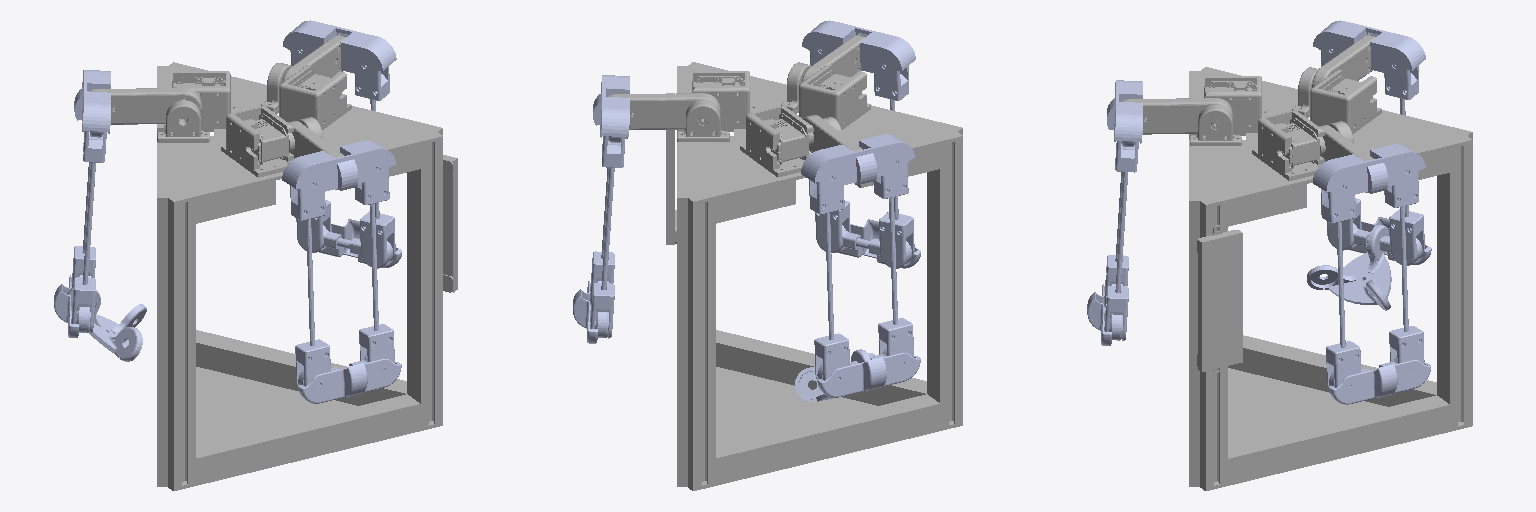
--- Facts derived from the render (not from the file) ---
Views: 3 orthographic renders of the robot side by side, from view 1: azimuth 30°, elevation 25°; view 2: azimuth 150°, elevation 25°; view 3: azimuth 270°, elevation 25°.
Model delta_arm_5_9 with 20 links and 19 joints (3 revolute, 16 fixed), rooted at base_link, posed all joints at 0 but 3 set to mid-range because 0 is outside their limits (A_upper_joint = 0.5887, B_upper_joint = 0.5887, C_upper_joint = 0.5887).
Visible links, largest first — view 1: base_link, A_lower_Link, A_L_C_Link, B_lower_Link, A_Link, B_Link, C_Link, B_L_C_Link, C_lower_Link, C_upper_Link, C_L_C_Link, bottom_Link (+5 smaller); view 2: base_link, C_lower_Link, C_L_C_Link, A_lower_Link, B_Link, A_L_C_Link, C_Link, A_Link, B_lower_Link, B_L_C_Link, B_upper_Link, A_upper_Link (+5 smaller); view 3: base_link, B_lower_Link, B_L_C_Link, C_lower_Link, B_Link, A_Link, C_Link, bottom_Link, C_L_C_Link, A_lower_Link, A_L_C_Link, A_upper_Link (+5 smaller).
Link boxes in pixels (x1,y1,x2,y2): base_link: [157, 62, 457, 490]; A_lower_Link: [282, 140, 395, 220]; A_L_C_Link: [295, 324, 401, 403]; B_lower_Link: [283, 20, 396, 100]; A_Link: [221, 106, 322, 177]; B_Link: [261, 63, 351, 129]; C_Link: [157, 71, 238, 142]; B_L_C_Link: [296, 200, 401, 268]; C_lower_Link: [74, 70, 110, 162]; C_upper_Link: [89, 88, 201, 124]; C_L_C_Link: [54, 246, 95, 337]; bottom_Link: [67, 287, 146, 361]; base_link: [666, 62, 962, 490]; C_lower_Link: [801, 134, 914, 214]; C_L_C_Link: [814, 318, 920, 397]; A_lower_Link: [802, 20, 915, 100]; B_Link: [677, 71, 758, 141]; A_L_C_Link: [815, 201, 920, 268]; C_Link: [740, 106, 841, 177]; A_Link: [781, 62, 870, 129]; B_lower_Link: [593, 75, 629, 167]; B_L_C_Link: [573, 251, 614, 343]; B_upper_Link: [606, 93, 720, 129]; A_upper_Link: [802, 35, 865, 81]; base_link: [1189, 67, 1472, 490]; B_lower_Link: [1313, 144, 1425, 223]; B_L_C_Link: [1326, 326, 1430, 404]; C_lower_Link: [1313, 20, 1425, 99]; B_Link: [1252, 110, 1353, 180]; A_Link: [1190, 76, 1269, 145]; C_Link: [1292, 67, 1381, 133]; bottom_Link: [1307, 224, 1391, 310]; C_L_C_Link: [1327, 198, 1431, 265]; A_lower_Link: [1107, 80, 1142, 172]; A_L_C_Link: [1087, 255, 1128, 345]; A_upper_Link: [1120, 98, 1232, 134].
Bounding box of the posed robot: 0.4375 × 0.4438 × 0.4203 m (x, y, z).
Meshes: 20 distinct files referenced, 20 mesh visuals loaded (20 binary STL).

robot.urdf — delta_arm_5_9:
<?xml version="1.0" encoding="utf-8"?>
<!-- This URDF was automatically created by SolidWorks to URDF Exporter! Originally created by Stephen Brawner ([email redacted]) 
     Commit Version: 1.5.1-0-g916b5db  Build Version: 1.5.7152.31018
     For more information, please see http://wiki.ros.org/sw_urdf_exporter -->
<robot
  name="delta_arm_5_9">
  <link
    name="base_link">
    <inertial>
      <origin
        xyz="0.00554893973511902 -0.00237073356367263 -0.193108630757846"
        rpy="0 0 0" />
      <mass
        value="3.15408218120688" />
      <inertia
        ixx="0.0190867271306195"
        ixy="9.49326999653824E-06"
        ixz="1.99135207647016E-19"
        iyy="0.0190757652466434"
        iyz="2.70805743697891E-18"
        izz="0.0143902861416029" />
    </inertial>
    <visual>
      <origin
        xyz="0 0 0"
        rpy="0 0 0" />
      <geometry>
        <mesh
          filename="package://delta_arm_5_9/meshes/base_link.STL" />
      </geometry>
      <material
        name="">
        <color
          rgba="0.752941176470588 0.752941176470588 0.752941176470588 1" />
      </material>
    </visual>
    <collision>
      <origin
        xyz="0 0 0"
        rpy="0 0 0" />
      <geometry>
        <mesh
          filename="package://delta_arm_5_9/meshes/base_link.STL" />
      </geometry>
    </collision>
  </link>
  <link
    name="A_Link">
    <inertial>
      <origin
        xyz="-0.0379048699759324 -0.00517857761961886 -0.00557187014435287"
        rpy="0 0 0" />
      <mass
        value="0.148279001708708" />
      <inertia
        ixx="7.54696348081895E-05"
        ixy="-9.72663516624767E-07"
        ixz="6.33543481781608E-07"
        iyy="5.65460220237497E-05"
        iyz="-3.93825719110163E-06"
        izz="8.26078524097678E-05" />
    </inertial>
    <visual>
      <origin
        xyz="0 0 0"
        rpy="0 0 0" />
      <geometry>
        <mesh
          filename="package://delta_arm_5_9/meshes/A_Link.STL" />
      </geometry>
      <material
        name="">
        <color
          rgba="0.752941176470588 0.752941176470588 0.752941176470588 1" />
      </material>
    </visual>
    <collision>
      <origin
        xyz="0 0 0"
        rpy="0 0 0" />
      <geometry>
        <mesh
          filename="package://delta_arm_5_9/meshes/A_Link.STL" />
      </geometry>
    </collision>
  </link>
  <joint
    name="A_joint"
    type="fixed">
    <origin
      xyz="0.0114000499999898 -0.0629227659318234 0.0274485649384041"
      rpy="0 0 0" />
    <parent
      link="base_link" />
    <child
      link="A_Link" />
    <axis
      xyz="0 0 0" />
  </joint>
  <link
    name="A_upper_Link">
    <inertial>
      <origin
        xyz="-0.0116561316606174 -0.0378219209354024 -0.0261820764249399"
        rpy="0 0 0" />
      <mass
        value="0.0834651127414681" />
      <inertia
        ixx="0.000109196265332253"
        ixy="4.02905885378998E-07"
        ixz="2.78909619240212E-07"
        iyy="3.94683583541158E-05"
        iyz="-4.16223927023038E-05"
        izz="7.07820517033241E-05" />
    </inertial>
    <visual>
      <origin
        xyz="0 0 0"
        rpy="0 0 0" />
      <geometry>
        <mesh
          filename="package://delta_arm_5_9/meshes/A_upper_Link.STL" />
      </geometry>
      <material
        name="">
        <color
          rgba="0.752941176470588 0.752941176470588 0.752941176470588 1" />
      </material>
    </visual>
    <collision>
      <origin
        xyz="0 0 0"
        rpy="0 0 0" />
      <geometry>
        <mesh
          filename="package://delta_arm_5_9/meshes/A_upper_Link.STL" />
      </geometry>
    </collision>
  </link>
  <joint
    name="A_upper_joint"
    type="revolute">
    <origin
      xyz="0 -0.021838122348941 -0.0017491424388583"
      rpy="0 0 0" />
    <parent
      link="A_Link" />
    <child
      link="A_upper_Link" />
    <axis
      xyz="-1 0 0" />
    <limit
      lower="0.3925"
      upper="0.785"
      effort="0"
      velocity="0" />
  </joint>
  <link
    name="A_lower_Link">
    <inertial>
      <origin
        xyz="-0.00799295057134536 0.00149434619309585 -0.00449854405208859"
        rpy="0 0 0" />
      <mass
        value="0.125950945666948" />
      <inertia
        ixx="2.60047233826041E-05"
        ixy="-1.10443542971112E-06"
        ixz="-1.39950787832508E-06"
        iyy="4.05948423209499E-05"
        iyz="5.37512520342376E-06"
        izz="3.80360818964886E-05" />
    </inertial>
    <visual>
      <origin
        xyz="0 0 0"
        rpy="0 0 0" />
      <geometry>
        <mesh
          filename="package://delta_arm_5_9/meshes/A_lower_Link.STL" />
      </geometry>
      <material
        name="">
        <color
          rgba="0.792156862745098 0.819607843137255 0.933333333333333 1" />
      </material>
    </visual>
    <collision>
      <origin
        xyz="0 0 0"
        rpy="0 0 0" />
      <geometry>
        <mesh
          filename="package://delta_arm_5_9/meshes/A_lower_Link.STL" />
      </geometry>
    </collision>
  </link>
  <joint
    name="A_lower_joint"
    type="fixed">
    <origin
      xyz="-0.00340004999999477 -0.0822216038863688 -0.0569175531304405"
      rpy="0 0 0" />
    <parent
      link="A_upper_Link" />
    <child
      link="A_lower_Link" />
    <axis
      xyz="0 0 0" />
  </joint>
  <link
    name="A_L_A_Link">
    <inertial>
      <origin
        xyz="-1.11022302462516E-16 0.045965569408597 -0.0785376752201571"
        rpy="0 0 0" />
      <mass
        value="0.00512917360576094" />
      <inertia
        ixx="1.40782919240295E-05"
        ixy="3.87455725113631E-21"
        ixz="-6.62379062297449E-21"
        iyy="1.04922009770858E-05"
        iyz="6.12726546684082E-06"
        izz="3.60912573259832E-06" />
    </inertial>
    <visual>
      <origin
        xyz="0 0 0"
        rpy="0 0 0" />
      <geometry>
        <mesh
          filename="package://delta_arm_5_9/meshes/A_L_A_Link.STL" />
      </geometry>
      <material
        name="">
        <color
          rgba="0.792156862745098 0.819607843137255 0.933333333333333 1" />
      </material>
    </visual>
    <collision>
      <origin
        xyz="0 0 0"
        rpy="0 0 0" />
      <geometry>
        <mesh
          filename="package://delta_arm_5_9/meshes/A_L_A_Link.STL" />
      </geometry>
    </collision>
  </link>
  <joint
    name="A_L_A_joint"
    type="fixed">
    <origin
      xyz="-0.0499999999999999 0.0157321910270431 -0.0278702021070493"
      rpy="0 0 0" />
    <parent
      link="A_lower_Link" />
    <child
      link="A_L_A_Link" />
    <axis
      xyz="0 0 0" />
  </joint>
  <link
    name="A_L_B_Link">
    <inertial>
      <origin
        xyz="-1.38777878078145E-16 0.0459655694085872 -0.0785376752201353"
        rpy="0 0 0" />
      <mass
        value="0.00512917360576094" />
      <inertia
        ixx="1.40782919240295E-05"
        ixy="3.87886259222542E-21"
        ixz="-6.63097353655021E-21"
        iyy="1.04922009770858E-05"
        iyz="6.12726546684083E-06"
        izz="3.60912573259832E-06" />
    </inertial>
    <visual>
      <origin
        xyz="0 0 0"
        rpy="0 0 0" />
      <geometry>
        <mesh
          filename="package://delta_arm_5_9/meshes/A_L_B_Link.STL" />
      </geometry>
      <material
        name="">
        <color
          rgba="0.792156862745098 0.819607843137255 0.933333333333333 1" />
      </material>
    </visual>
    <collision>
      <origin
        xyz="0 0 0"
        rpy="0 0 0" />
      <geometry>
        <mesh
          filename="package://delta_arm_5_9/meshes/A_L_B_Link.STL" />
      </geometry>
    </collision>
  </link>
  <joint
    name="A_L_B_joint"
    type="fixed">
    <origin
      xyz="0.0840000000000001 0 0"
      rpy="0 0 0" />
    <parent
      link="A_L_A_Link" />
    <child
      link="A_L_B_Link" />
    <axis
      xyz="0 0 0" />
  </joint>
  <link
    name="A_L_C_Link">
    <inertial>
      <origin
        xyz="-0.0250089440002082 0.0254266308227719 -0.0243339822327821"
        rpy="0 0 0" />
      <mass
        value="0.10195719003566" />
      <inertia
        ixx="1.97815921666454E-05"
        ixy="9.67403667468601E-11"
        ixz="-2.70121864713207E-10"
        iyy="5.02574058180274E-05"
        iyz="5.45822558851642E-06"
        izz="4.12421706448766E-05" />
    </inertial>
    <visual>
      <origin
        xyz="0 0 0"
        rpy="0 0 0" />
      <geometry>
        <mesh
          filename="package://delta_arm_5_9/meshes/A_L_C_Link.STL" />
      </geometry>
      <material
        name="">
        <color
          rgba="0.792156862745098 0.819607843137255 0.933333333333333 1" />
      </material>
    </visual>
    <collision>
      <origin
        xyz="0 0 0"
        rpy="0 0 0" />
      <geometry>
        <mesh
          filename="package://delta_arm_5_9/meshes/A_L_C_Link.STL" />
      </geometry>
    </collision>
  </link>
  <joint
    name="A_L_C_joint"
    type="fixed">
    <origin
      xyz="-0.0170000000000001 0.0755867189956139 -0.153895737145241"
      rpy="0 0 0" />
    <parent
      link="A_L_B_Link" />
    <child
      link="A_L_C_Link" />
    <axis
      xyz="0 0 0" />
  </joint>
  <!-- <link
    name="bottom1_Link">
    <inertial>
      <origin
        xyz="0.00132946745260076 0.00106644560728835 -0.0595675638269158"
        rpy="0 0 0" />
      <mass
        value="0.0746189136507692" />
      <inertia
        ixx="3.52856447126956E-05"
        ixy="-1.07419992679813E-11"
        ixz="5.8879335434017E-12"
        iyy="3.52856295907577E-05"
        iyz="5.78723225934602E-13"
        izz="5.37048090959678E-05" />
    </inertial>
    <visual>
      <origin
        xyz="0 0 0"
        rpy="0 0 0" />
      <geometry>
        <mesh
          filename="package://delta_arm_5_9/meshes/bottom1_Link.STL" />
      </geometry>
      <material
        name="">
        <color
          rgba="0.752941176470588 0.752941176470588 0.752941176470588 1" />
      </material>
    </visual>
    <collision>
      <origin
        xyz="0 0 0"
        rpy="0 0 0" />
      <geometry>
        <mesh
          filename="package://delta_arm_5_9/meshes/bottom1_Link.STL" />
      </geometry>
    </collision>
  </link> -->
  <!-- <joint
    name="bottom1_joint"
    type="fixed">
    <origin
      xyz="-0.026329 0.075174 0.024309"
      rpy="0 0 0" />
    <parent
      link="A_L_C_Link" />
    <child
      link="bottom1_Link" />
    <axis
      xyz="0 0 0" />
  </joint> -->
  <link
    name="B_Link">
    <inertial>
      <origin
        xyz="0.0234372150917092 -0.030237291235818 -0.00557186943923548"
        rpy="0 0 0" />
      <mass
        value="0.148279005447803" />
      <inertia
        ixx="6.04345800459525E-05"
        ixy="-7.7078351717096E-06"
        ixz="3.0938568532383E-06"
        iyy="7.15810885240533E-05"
        iyz="2.51778994435991E-06"
        izz="8.26078569675061E-05" />
    </inertial>
    <visual>
      <origin
        xyz="0 0 0"
        rpy="0 0 0" />
      <geometry>
        <mesh
          filename="package://delta_arm_5_9/meshes/B_Link.STL" />
      </geometry>
      <material
        name="">
        <color
          rgba="0.752941176470588 0.752941176470588 0.752941176470588 1" />
      </material>
    </visual>
    <collision>
      <origin
        xyz="0 0 0"
        rpy="0 0 0" />
      <geometry>
        <mesh
          filename="package://delta_arm_5_9/meshes/B_Link.STL" />
      </geometry>
    </collision>
  </link>
  <joint
    name="B_joint"
    type="fixed">
    <origin
      xyz="0.048793 0.041334 0.027449"
      rpy="0 0 0" />
    <parent
      link="base_link" />
    <child
      link="B_Link" />
    <axis
      xyz="0 0 0" />
  </joint>
  <link
    name="B_upper_Link">
    <inertial>
      <origin
        xyz="0.0389317157383473 0.00844054334292714 -0.0260163168045699"
        rpy="0 0 0" />
      <mass
        value="0.0834651205259569" />
      <inertia
        ixx="5.69775622618879E-05"
        ixy="-3.05526048257796E-05"
        ixz="3.57874294728405E-05"
        iyy="9.13233905327305E-05"
        iyz="2.09819002091223E-05"
        izz="7.11457227314995E-05" />
    </inertial>
    <visual>
      <origin
        xyz="0 0 0"
        rpy="0 0 0" />
      <geometry>
        <mesh
          filename="package://delta_arm_5_9/meshes/B_upper_Link.STL" />
      </geometry>
      <material
        name="">
        <color
          rgba="0.752941176470588 0.752941176470588 0.752941176470588 1" />
      </material>
    </visual>
    <collision>
      <origin
        xyz="0 0 0"
        rpy="0 0 0" />
      <geometry>
        <mesh
          filename="package://delta_arm_5_9/meshes/B_upper_Link.STL" />
      </geometry>
    </collision>
  </link>
  <joint
    name="B_upper_joint"
    type="revolute">
    <origin
      xyz="0.018912368725138 0.0109190611744718 -0.00174914243885832"
      rpy="0 0 0" />
    <parent
      link="B_Link" />
    <child
      link="B_upper_Link" />
    <axis
      xyz="0.499999999999999 -0.866025403784439 0" />
    <limit
      lower="0.3925"
      upper="0.785"
      effort="0"
      velocity="0" />
  </joint>
  <link
    name="B_lower_Link">
    <inertial>
      <origin
        xyz="0.00271366382342569 -0.00766272977653282 -0.00450286943885877"
        rpy="0 0 0" />
      <mass
        value="0.12595094566693" />
      <inertia
        ixx="3.60107484524521E-05"
        ixy="6.88547909636122E-06"
        ixz="-3.95032852499742E-06"
        iyy="3.06200481918059E-05"
        iyz="-3.89302165717325E-06"
        izz="3.80048511362512E-05" />
    </inertial>
    <visual>
      <origin
        xyz="0 0 0"
        rpy="0 0 0" />
      <geometry>
        <mesh
          filename="package://delta_arm_5_9/meshes/B_lower_Link.STL" />
      </geometry>
      <material
        name="">
        <color
          rgba="0.792156862745098 0.819607843137255 0.933333333333333 1" />
      </material>
    </visual>
    <collision>
      <origin
        xyz="0 0 0"
        rpy="0 0 0" />
      <geometry>
        <mesh
          filename="package://delta_arm_5_9/meshes/B_lower_Link.STL" />
      </geometry>
    </collision>
  </link>
  <joint
    name="B_lower_joint"
    type="fixed">
    <origin
      xyz="0.0733710399345057 0.0378573998222244 -0.056557211455513"
      rpy="0 0 0" />
    <parent
      link="B_upper_Link" />
    <child
      link="B_lower_Link" />
    <axis
      xyz="0 0 0" />
  </joint>
  <link
    name="B_L_A_Link">
    <inertial>
      <origin
        xyz="-0.039609450676557 -0.0228685270105631 -0.0786709723437815"
        rpy="0 0 0" />
      <mass
        value="0.00512917360576095" />
      <inertia
        ixx="1.14153993314539E-05"
        ixy="-1.53742175514658E-06"
        ixz="-5.28894862025827E-06"
        iyy="1.31906610598377E-05"
        iyz="-3.0535759096362E-06"
        izz="3.57355824242211E-06" />
    </inertial>
    <visual>
      <origin
        xyz="0 0 0"
        rpy="0 0 0" />
      <geometry>
        <mesh
          filename="package://delta_arm_5_9/meshes/B_L_A_Link.STL" />
      </geometry>
      <material
        name="">
        <color
          rgba="0.792156862745098 0.819607843137255 0.933333333333333 1" />
      </material>
    </visual>
    <collision>
      <origin
        xyz="0 0 0"
        rpy="0 0 0" />
      <geometry>
        <mesh
          filename="package://delta_arm_5_9/meshes/B_L_A_Link.STL" />
      </geometry>
    </collision>
  </link>
  <joint
    name="B_L_A_joint"
    type="fixed">
    <origin
      xyz="0.0114457484466838 -0.0511268209721932 -0.0279158202419673"
      rpy="0 0 0" />
    <parent
      link="B_lower_Link" />
    <child
      link="B_L_A_Link" />
    <axis
      xyz="0 0 0" />
  </joint>
  <link
    name="B_L_B_Link">
    <inertial>
      <origin
        xyz="-0.0396094506765681 -0.0228685270105695 -0.0786709723439706"
        rpy="0 0 0" />
      <mass
        value="0.00512917360576094" />
      <inertia
        ixx="1.14153993314539E-05"
        ixy="-1.53742175514657E-06"
        ixz="-5.28894862025824E-06"
        iyy="1.31906610598376E-05"
        iyz="-3.05357590963618E-06"
        izz="3.57355824242209E-06" />
    </inertial>
    <visual>
      <origin
        xyz="0 0 0"
        rpy="0 0 0" />
      <geometry>
        <mesh
          filename="package://delta_arm_5_9/meshes/B_L_B_Link.STL" />
      </geometry>
      <material
        name="">
        <color
          rgba="0.792156862745098 0.819607843137255 0.933333333333333 1" />
      </material>
    </visual>
    <collision>
      <origin
        xyz="0 0 0"
        rpy="0 0 0" />
      <geometry>
        <mesh
          filename="package://delta_arm_5_9/meshes/B_L_B_Link.STL" />
      </geometry>
    </collision>
  </link>
  <joint
    name="B_L_B_joint"
    type="fixed">
    <origin
      xyz="-0.0419999999999985 0.0727461339178937 0"
      rpy="0 0 0" />
    <parent
      link="B_L_A_Link" />
    <child
      link="B_L_B_Link" />
    <axis
      xyz="0 0 0" />
  </joint>
  <link
    name="B_L_C_Link">
    <inertial>
      <origin
        xyz="0.0220672595297202 -0.0357672118397607 0.00987641544824613"
        rpy="0 0 0" />
      <mass
        value="0.101957194115647" />
      <inertia
        ixx="4.26622807753621E-05"
        ixy="1.32100761451672E-05"
        ixz="-4.70405091721938E-06"
        iyy="2.74083789576683E-05"
        iyz="-2.716195793614E-06"
        izz="4.12105119517624E-05" />
    </inertial>
    <visual>
      <origin
        xyz="0 0 0"
        rpy="0 0 0" />
      <geometry>
        <mesh
          filename="package://delta_arm_5_9/meshes/B_L_C_Link.STL" />
      </geometry>
      <material
        name="">
        <color
          rgba="0.792156862745098 0.819607843137255 0.933333333333333 1" />
      </material>
    </visual>
    <collision>
      <origin
        xyz="0 0 0"
        rpy="0 0 0" />
      <geometry>
        <mesh
          filename="package://delta_arm_5_9/meshes/B_L_C_Link.STL" />
      </geometry>
    </collision>
  </link>
  <joint
    name="B_L_C_joint"
    type="fixed">
    <origin
      xyz="-0.0880938218217293 -0.0508609917427181 -0.188399046111979"
      rpy="0 0 0" />
    <parent
      link="B_L_B_Link" />
    <child
      link="B_L_C_Link" />
    <axis
      xyz="0 0 0" />
  </joint>
  <!-- <link
    name="bottom2_Link">
    <inertial>
      <origin
        xyz="0.00132946745260065 0.0010664456072884 -0.0595675638269399"
        rpy="0 0 0" />
      <mass
        value="0.0746189136507693" />
      <inertia
        ixx="3.52856447126956E-05"
        ixy="-1.07419992613903E-11"
        ixz="5.88793353213287E-12"
        iyy="3.52856295907577E-05"
        iyz="5.7872321882608E-13"
        izz="5.37048090959678E-05" />
    </inertial>
    <visual>
      <origin
        xyz="0 0 0"
        rpy="0 0 0" />
      <geometry>
        <mesh
          filename="package://delta_arm_5_9/meshes/bottom2_Link.STL" />
      </geometry>
      <material
        name="">
        <color
          rgba="0.752941176470588 0.752941176470588 0.752941176470588 1" />
      </material>
    </visual>
    <collision>
      <origin
        xyz="0 0 0"
        rpy="0 0 0" />
      <geometry>
        <mesh
          filename="package://delta_arm_5_9/meshes/bottom2_Link.STL" />
      </geometry>
    </collision>
  </link>
  <joint
    name="bottom2_joint"
    type="fixed">
    <origin
      xyz="-0.023757 -0.061358 0.058497"
      rpy="0 0 0" />
    <parent
      link="B_L_C_Link" />
    <child
      link="bottom2_Link" />
    <axis
      xyz="0 0 0" />
  </joint> -->
  <link
    name="C_Link">
    <inertial>
      <origin
        xyz="0.0144676549502475 0.0354158699390667 -0.00557186924699208"
        rpy="0 0 0" />
      <mass
        value="0.148279008091616" />
      <inertia
        ixx="6.21192805432519E-05"
        ixy="8.68049697699984E-06"
        ixz="-3.72739744014281E-06"
        iyy="6.9896390840138E-05"
        iyz="1.4204638821682E-06"
        izz="8.26078590256881E-05" />
    </inertial>
    <visual>
      <origin
        xyz="0 0 0"
        rpy="0 0 0" />
      <geometry>
        <mesh
          filename="package://delta_arm_5_9/meshes/C_Link.STL" />
      </geometry>
      <material
        name="">
        <color
          rgba="0.752941176470588 0.752941176470588 0.752941176470588 1" />
      </material>
    </visual>
    <collision>
      <origin
        xyz="0 0 0"
        rpy="0 0 0" />
      <geometry>
        <mesh
          filename="package://delta_arm_5_9/meshes/C_Link.STL" />
      </geometry>
    </collision>
  </link>
  <joint
    name="C_joint"
    type="fixed">
    <origin
      xyz="-0.0601927387733479 0.021588650061524 0.0274485649384041"
      rpy="0 0 0" />
    <parent
      link="base_link" />
    <child
      link="C_Link" />
    <axis
      xyz="0 0 0" />
  </joint>
  <link
    name="C_upper_Link">
    <inertial>
      <origin
        xyz="-0.0370276975130816 0.0354146443452576 -0.0277654592433011"
        rpy="0 0 0" />
      <mass
        value="0.0834651205260636" />
      <inertia
        ixx="5.62776015336082E-05"
        ixy="3.01484823111371E-05"
        ixz="-3.60645733367652E-05"
        iyy="9.20233512599027E-05"
        iyz="2.05018729548205E-05"
        izz="7.11457227313868E-05" />
    </inertial>
    <visual>
      <origin
        xyz="0 0 0"
        rpy="0 0 0" />
      <geometry>
        <mesh
          filename="package://delta_arm_5_9/meshes/C_upper_Link.STL" />
      </geometry>
      <material
        name="">
        <color
          rgba="0.752941176470588 0.752941176470588 0.752941176470588 1" />
      </material>
    </visual>
    <collision>
      <origin
        xyz="0 0 0"
        rpy="0 0 0" />
      <geometry>
        <mesh
          filename="package://delta_arm_5_9/meshes/C_upper_Link.STL" />
      </geometry>
    </collision>
  </link>
  <joint
    name="C_upper_joint"
    type="revolute">
    <origin
      xyz="-0.00866025403784439 0.00499999999999999 0"
      rpy="0 0 0" />
    <parent
      link="C_Link" />
    <child
      link="C_upper_Link" />
    <axis
      xyz="0.499999999999999 0.866025403784439 0" />
    <limit
      lower="0.3925"
      upper="0.785"
      effort="0"
      velocity="0" />
  </joint>
  <link
    name="C_lower_Link">
    <inertial>
      <origin
        xyz="-0.00272071527826098 -0.00767493860027665 -0.00450286923597668"
        rpy="0 0 0" />
      <mass
        value="0.12595094566685" />
      <inertia
        ixx="3.79307256106078E-05"
        ixy="-5.77697972931612E-06"
        ixz="5.34661972500712E-06"
        iyy="2.87000709898317E-05"
        iyz="-1.47457435659635E-06"
        izz="3.80048510924299E-05" />
    </inertial>
    <visual>
      <origin
        xyz="0 0 0"
        rpy="0 0 0" />
      <geometry>
        <mesh
          filename="package://delta_arm_5_9/meshes/C_lower_Link.STL" />
      </geometry>
      <material
        name="">
        <color
          rgba="0.792156862745098 0.819607843137255 0.933333333333333 1" />
      </material>
    </visual>
    <collision>
      <origin
        xyz="0 0 0"
        rpy="0 0 0" />
      <geometry>
        <mesh
          filename="package://delta_arm_5_9/meshes/C_lower_Link.STL" />
      </geometry>
    </collision>
  </link>
  <joint
    name="C_lower_joint"
    type="fixed">
    <origin
      xyz="-0.071723104621811 0.0643879522092714 -0.0583063538944643"
      rpy="0 0 0" />
    <parent
      link="C_upper_Link" />
    <child
      link="C_lower_Link" />
    <axis
      xyz="0 0 0" />
  </joint>
  <link
    name="C_L_A_Link">
    <inertial>
      <origin
        xyz="0.0396094506764286 -0.0228685270104892 -0.0786709723435823"
        rpy="0 0 0" />
      <mass
        value="0.00512917360576094" />
      <inertia
        ixx="1.14153993314576E-05"
        ixy="1.53742175514446E-06"
        ixz="5.28894862025585E-06"
        iyy="1.31906610598389E-05"
        iyz="-3.05357590963481E-06"
        izz="3.57355824241722E-06" />
    </inertial>
    <visual>
      <origin
        xyz="0 0 0"
        rpy="0 0 0" />
      <geometry>
        <mesh
          filename="package://delta_arm_5_9/meshes/C_L_A_Link.STL" />
      </geometry>
      <material
        name="">
        <color
          rgba="0.792156862745098 0.819607843137255 0.933333333333333 1" />
      </material>
    </visual>
    <collision>
      <origin
        xyz="0 0 0"
        rpy="0 0 0" />
      <geometry>
        <mesh
          filename="package://delta_arm_5_9/meshes/C_L_A_Link.STL" />
      </geometry>
    </collision>
  </link>
  <joint
    name="C_L_A_joint"
    type="fixed">
    <origin
      xyz="0.0305542515533874 0.0216193129456589 -0.0279158202419453"
      rpy="0 0 0" />
    <parent
      link="C_lower_Link" />
    <child
      link="C_L_A_Link" />
    <axis
      xyz="0 0 0" />
  </joint>
  <link
    name="C_L_B_Link">
    <inertial>
      <origin
        xyz="0.0396094506764278 -0.0228685270104887 -0.0786709723435807"
        rpy="0 0 0" />
      <mass
        value="0.00512917360576094" />
      <inertia
        ixx="1.14153993314576E-05"
        ixy="1.53742175514446E-06"
        ixz="5.28894862025585E-06"
        iyy="1.31906610598389E-05"
        iyz="-3.05357590963481E-06"
        izz="3.57355824241722E-06" />
    </inertial>
    <visual>
      <origin
        xyz="0 0 0"
        rpy="0 0 0" />
      <geometry>
        <mesh
          filename="package://delta_arm_5_9/meshes/C_L_B_Link.STL" />
      </geometry>
      <material
        name="">
        <color
          rgba="0.792156862745098 0.819607843137255 0.933333333333333 1" />
      </material>
    </visual>
    <collision>
      <origin
        xyz="0 0 0"
        rpy="0 0 0" />
      <geometry>
        <mesh
          filename="package://delta_arm_5_9/meshes/C_L_B_Link.STL" />
      </geometry>
    </collision>
  </link>
  <joint
    name="C_L_B_joint"
    type="fixed">
    <origin
      xyz="-0.042 -0.0727461339178929 0"
      rpy="0 0 0" />
    <parent
      link="C_L_A_Link" />
    <child
      link="C_L_B_Link" />
    <axis
      xyz="0 0 0" />
  </joint>
  <link
    name="C_L_C_Link">
    <inertial>
      <origin
        xyz="-0.00753677837145254 -0.0637656431594465 -0.024407798088839"
        rpy="0 0 0" />
      <mass
        value="0.101957193979774" />
      <inertia
        ixx="4.26621147766058E-05"
        ixy="-1.32101719973147E-05"
        ixz="4.70432142242074E-06"
        iyy="2.74085449512918E-05"
        iyz="-2.71572724887545E-06"
        izz="4.12105119702986E-05" />
    </inertial>
    <visual>
      <origin
        xyz="0 0 0"
        rpy="0 0 0" />
      <geometry>
        <mesh
          filename="package://delta_arm_5_9/meshes/C_L_C_Link.STL" />
      </geometry>
      <material
        name="">
        <color
          rgba="0.792156862745098 0.819607843137255 0.933333333333333 1" />
      </material>
    </visual>
    <collision>
      <origin
        xyz="0 0 0"
        rpy="0 0 0" />
      <geometry>
        <mesh
          filename="package://delta_arm_5_9/meshes/C_L_C_Link.STL" />
      </geometry>
    </collision>
  </link>
  <joint
    name="C_L_C_joint"
    type="fixed">
    <origin
      xyz="0.115572283607615 0.0498990653245883 -0.154114829077067"
      rpy="0 0 0" />
    <parent
      link="C_L_B_Link" />
    <child
      link="C_L_C_Link" />
    <axis
      xyz="0 0 0" />
  </joint>
  <link
    name="bottom_Link">
    <inertial>
      <origin
        xyz="0.00132946918428123 0.00106644292646986 -0.0638897777630391"
        rpy="0 0 0" />
      <mass
        value="0.0388343573298947" />
      <inertia
        ixx="2.98686166160616E-05"
        ixy="-1.07263679396049E-11"
        ixz="5.8758859567164E-12"
        iyy="2.98686014801353E-05"
        iyz="5.76938703118429E-13"
        izz="4.93696895199585E-05" />
    </inertial>
    <visual>
      <origin
        xyz="0 0 0"
        rpy="0 0 0" />
      <geometry>
        <mesh
          filename="package://delta_arm_5_9/meshes/bottom_Link.STL" />
      </geometry>
      <material
        name="">
        <color
          rgba="0.792156862745098 0.819607843137255 0.933333333333333 1" />
      </material>
    </visual>
    <collision>
      <origin
        xyz="0 0 0"
        rpy="0 0 0" />
      <geometry>
        <mesh
          filename="package://delta_arm_5_9/meshes/bottom_Link.STL" />
      </geometry>
    </collision>
  </link>
  <joint
    name="bottom_joint"
    type="fixed">
    <origin
      xyz="0.03512 -0.090238 0.024213"
      rpy="0 0 0" />
    <parent
      link="C_L_C_Link" />
    <child
      link="bottom_Link" />
    <axis
      xyz="0 0 0" />
  </joint>
</robot>
